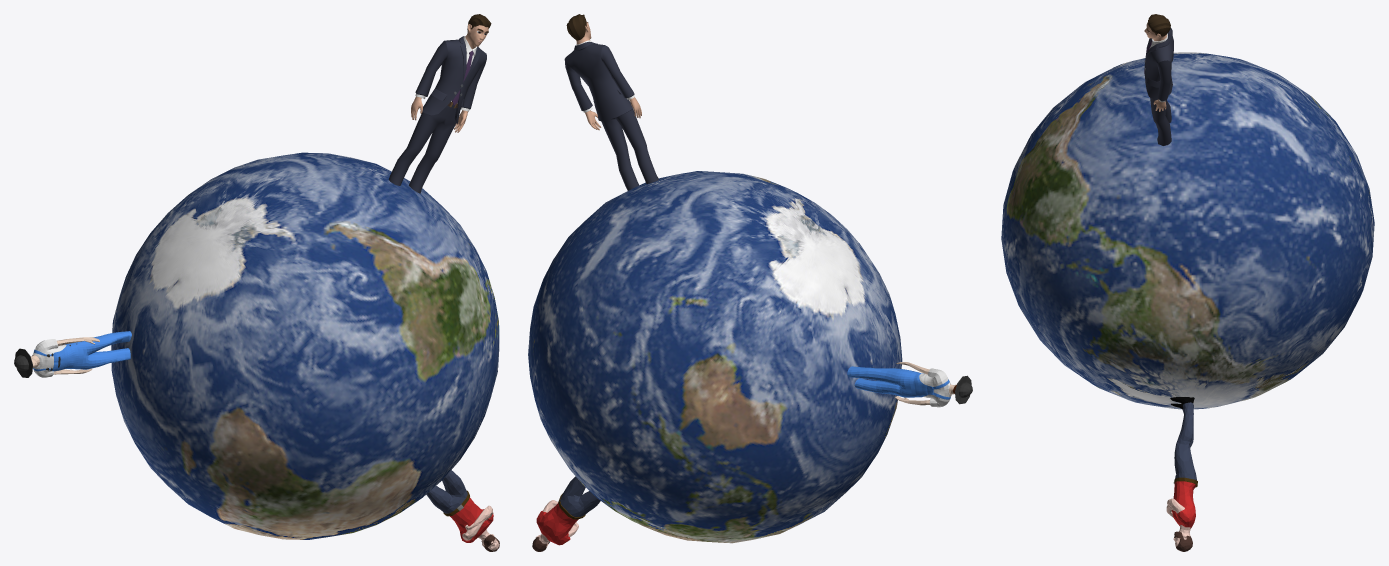
File: network.glb
3 views of the same model, side by side, from view 1: azimuth 30°, elevation 25°; view 2: azimuth 150°, elevation 25°; view 3: azimuth 270°, elevation 25° (orthographic). The views are drawn at different scales.
Parts seen in each view (by area): view 1: earth, man_in_suit, FarmerMan, m_ca01.000; view 2: earth, man_in_suit, FarmerMan, m_ca01.000; view 3: earth, man_in_suit, m_ca01.000.
Boxes of the visible parts, bbox=[...] form: earth: bbox=[111, 152, 499, 539]; man_in_suit: bbox=[388, 14, 491, 193]; FarmerMan: bbox=[14, 331, 131, 377]; m_ca01.000: bbox=[426, 470, 499, 551]; earth: bbox=[528, 171, 902, 543]; man_in_suit: bbox=[564, 14, 658, 190]; FarmerMan: bbox=[847, 362, 972, 407]; m_ca01.000: bbox=[532, 476, 600, 551]; earth: bbox=[1001, 52, 1374, 409]; man_in_suit: bbox=[1144, 14, 1173, 145]; m_ca01.000: bbox=[1166, 397, 1197, 551].
Size of the model in its own units: 136 by 153 by 99.06.
Materials: 29 (2 with a texture image).
